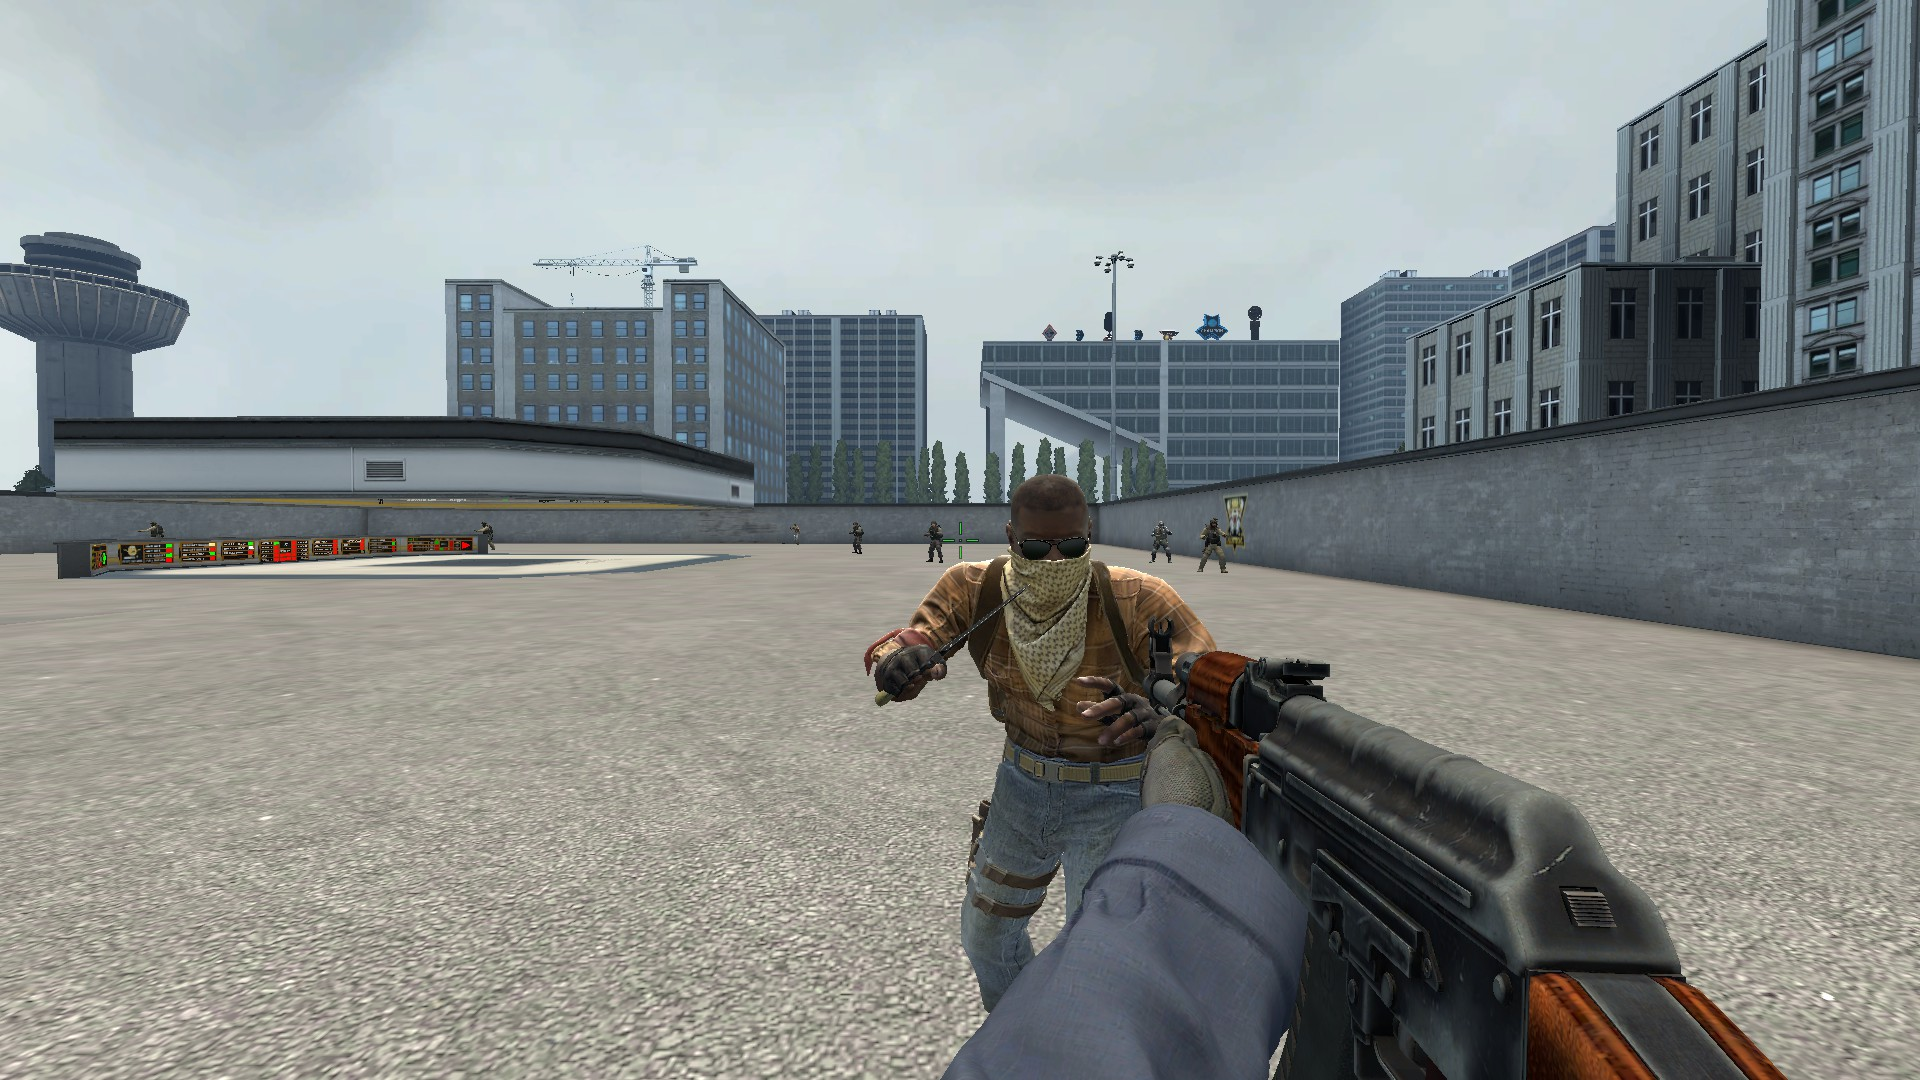tr: (863, 473, 1224, 1020)
tr head: (999, 470, 1095, 617)
